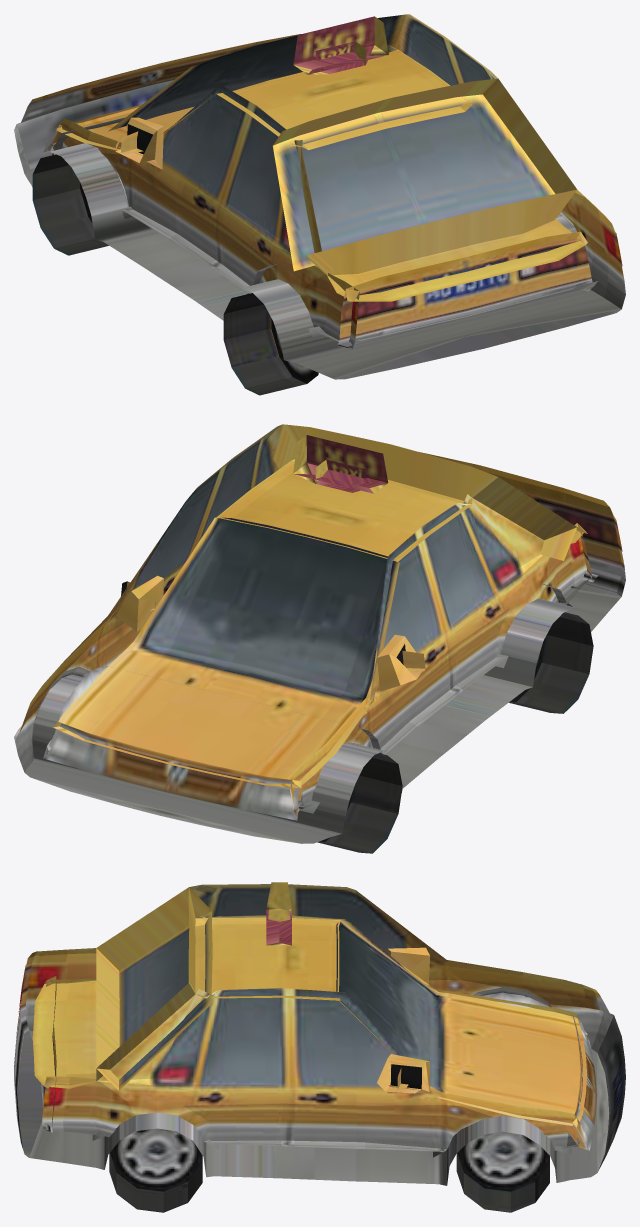
The picture shows the model from 3 angles, top to bottom: view 1: azimuth 30°, elevation 25°; view 2: azimuth 150°, elevation 25°; view 3: azimuth 270°, elevation 25°; orthographic projection. The views are drawn at different scales.
Parts seen in each view (by area): view 1: chuzu02, tyre1, tyre3; view 2: chuzu02, tyre1, tyre3; view 3: chuzu02, tyre2, tyre4.
Part boxes in pixels (x1,y1,x2,y2): chuzu02: (14,14,625,379); tyre1: (223,293,318,395); tyre3: (32,154,108,255); chuzu02: (14,424,625,843); tyre1: (509,612,593,713); tyre3: (317,753,402,853); chuzu02: (14,882,625,1185); tyre2: (109,1128,202,1212); tyre4: (456,1131,549,1212).
Bounding box in the file's own units: 0.6039 × 0.4988 × 1.11.
Materials: 1 (1 with a texture image).
